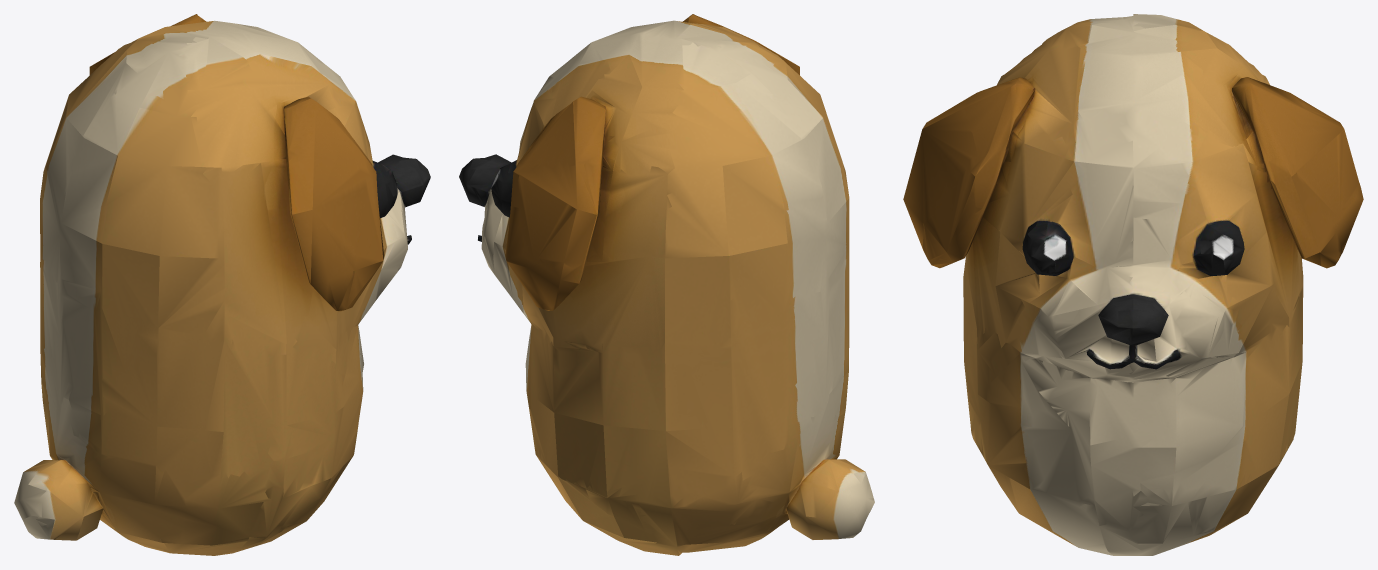
Rendered from dog_final.fbx.
3 renders of one model, left to right at view 1: azimuth 30°, elevation 25°; view 2: azimuth 150°, elevation 25°; view 3: azimuth 270°, elevation 25°, orthographic. The views are drawn at different scales.
Visible parts, largest first — view 1: tripo_node_426fcc5f; view 2: tripo_node_426fcc5f; view 3: tripo_node_426fcc5f.
Boxes of the visible parts, <box> form: tripo_node_426fcc5f: <box>14,14,430,555</box>; tripo_node_426fcc5f: <box>459,14,874,555</box>; tripo_node_426fcc5f: <box>903,14,1363,555</box>.
Bounding box in the file's own units: 84.36 × 97.91 × 81.35.
Materials: 1 (1 with a texture image).
